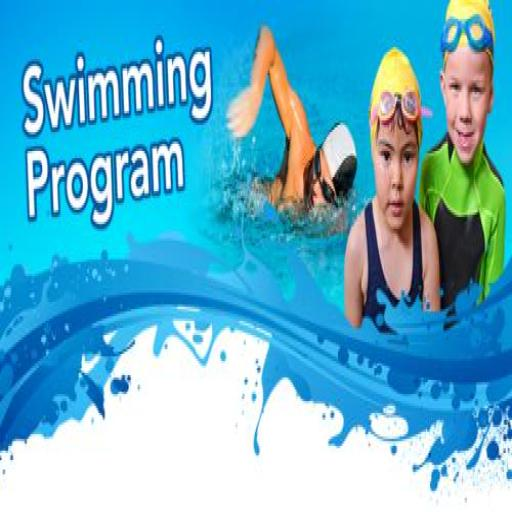swimming: (342, 45, 442, 337), (417, 0, 507, 321), (224, 21, 358, 236)
